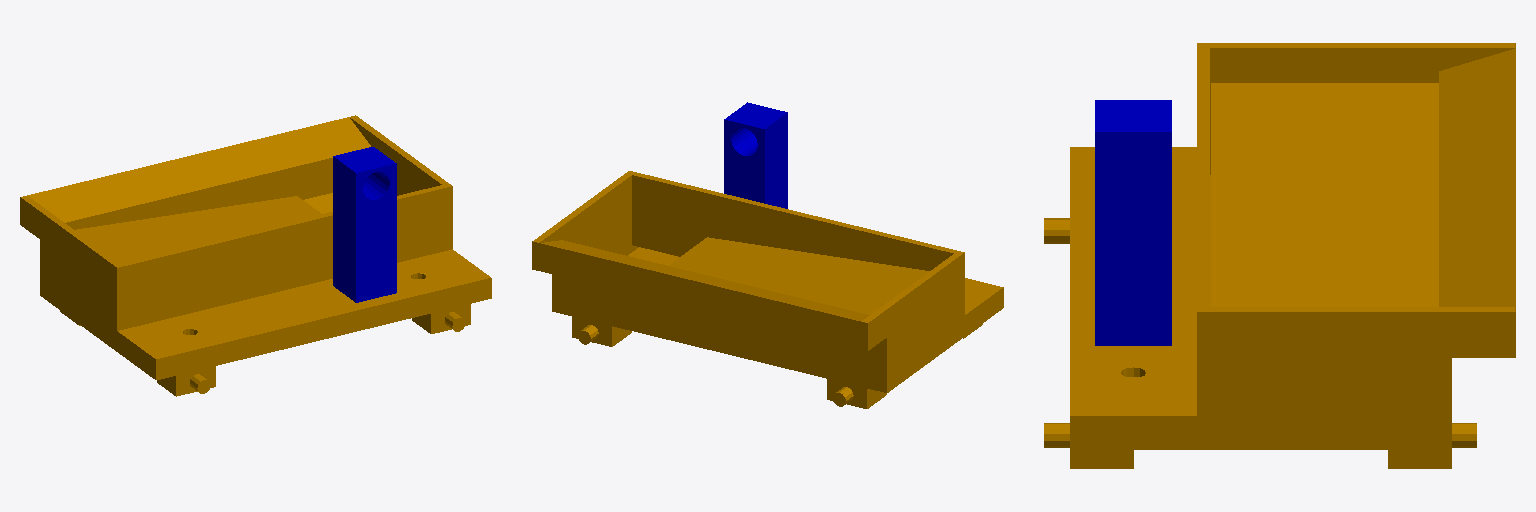
robot.urdf — base:
<?xml version="1.0" encoding="utf-8"?>
<!-- This URDF was automatically created by SolidWorks to URDF Exporter! Originally created by [author] ([email redacted]) 
     Commit Version: 1.5.1-0-g916b5db  Build Version: 1.5.7152.31018
     For more information, please see http://wiki.ros.org/sw_urdf_exporter -->
<robot
  name="base">
  <link
    name="base">
    <inertial>
      <origin
        xyz="0.22237 0.14236 0.02517"
        rpy="0 0 0" />
      <mass
        value="9.1153" />
      <inertia
        ixx="0.080729"
        ixy="-0.00070476"
        ixz="0.0034829"
        iyy="0.19941"
        iyz="0.010062"
        izz="0.26108" />
    </inertial>
    <visual>
      <origin
        xyz="0 0 0"
        rpy="1.5707963267949 0 0" />
      <geometry>
        <mesh
          filename="package://robot_urdf/mesh/base.STL" />
      </geometry>
      <material
        name="blue">
        <color
          rgba="0.75294 0.53333 0 1" />
      </material>
    </visual>
    <collision>
      <origin
        xyz="0 0 0"
        rpy="1.5707963267949 0 0" />
      <geometry>
        <mesh
          filename="package://robot_urdf/mesh/base.STL" />
      </geometry>
    </collision>
  </link>
 <link
    name="digging_link_1">
<inertial>
      <origin
        xyz="-6.9389E-18 -1.1102E-16 0.092027"
        rpy="0 0 0" />
      <mass
        value="0.63832" />
      <inertia
        ixx="0.0020699"
        ixy="6.7763E-20"
        ixz="1.9957E-19"
        iyy="0.002085"
        iyz="1.7844E-19"
        izz="0.00040153" />
    </inertial>
    <visual>
      <origin
        xyz="0.17 0 0"
        rpy="0 0 0" />
      <geometry>
        <mesh
          filename="package://robot_urdf/mesh/digging_link_1.STL" />
      </geometry>
      <material
        name="blue">
        <color
          rgba="0 0 0.8 1" />
      </material>
    </visual>
    
    <collision>
      <origin
        xyz="0 0 0"
        rpy="0 0 0" />
      <geometry>
        <mesh
          filename="package://robot_urdf/mesh/digging_link_1.STL" />
      </geometry>
    </collision>
  </link>

  <joint
 name="base_to_digging_link_1" type="revolute">
	<axis xyz="0 0 1" />
	<limit effort="1000.0" lower="0.0" upper="1.516" velocity="0.5" />
	<origin xyz="0.17 0 0" rpy="0 0 0" />
	<parent link="base" />
    	<child link="digging_link_1" />
  </joint>

</robot>

--- Facts derived from the render (not from the file) ---
3 views of the same robot in one strip: view 1: azimuth 30°, elevation 25°; view 2: azimuth 150°, elevation 25°; view 3: azimuth 270°, elevation 25° (orthographic).
Model base with 2 links and 1 joints (1 revolute), rooted at base, posed every joint at zero.
Visible links, largest first — view 1: base, digging_link_1; view 2: base, digging_link_1; view 3: base, digging_link_1.
Link boxes in pixels (x1,y1,x2,y2): base: (20, 115, 491, 396); digging_link_1: (333, 147, 396, 302); base: (532, 171, 1003, 408); digging_link_1: (724, 102, 787, 208); base: (1044, 43, 1515, 468); digging_link_1: (1095, 100, 1171, 345).
Size in the robot's own frame: 0.5 by 0.37 by 0.245 metres.
2 mesh visuals loaded from 2 distinct referenced files (2 binary STL).